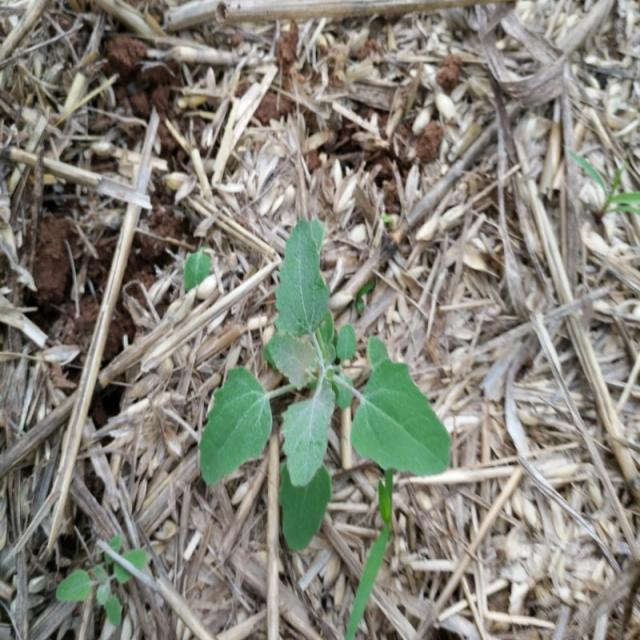goosefoots: (166, 244, 442, 537)
